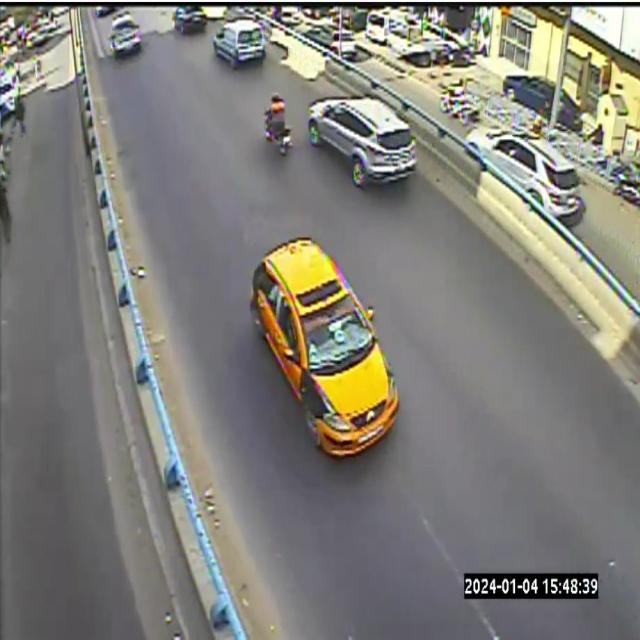car: (250, 238, 399, 456), (467, 126, 582, 225), (307, 98, 417, 187), (213, 19, 265, 67), (109, 13, 141, 57), (173, 5, 206, 34)
